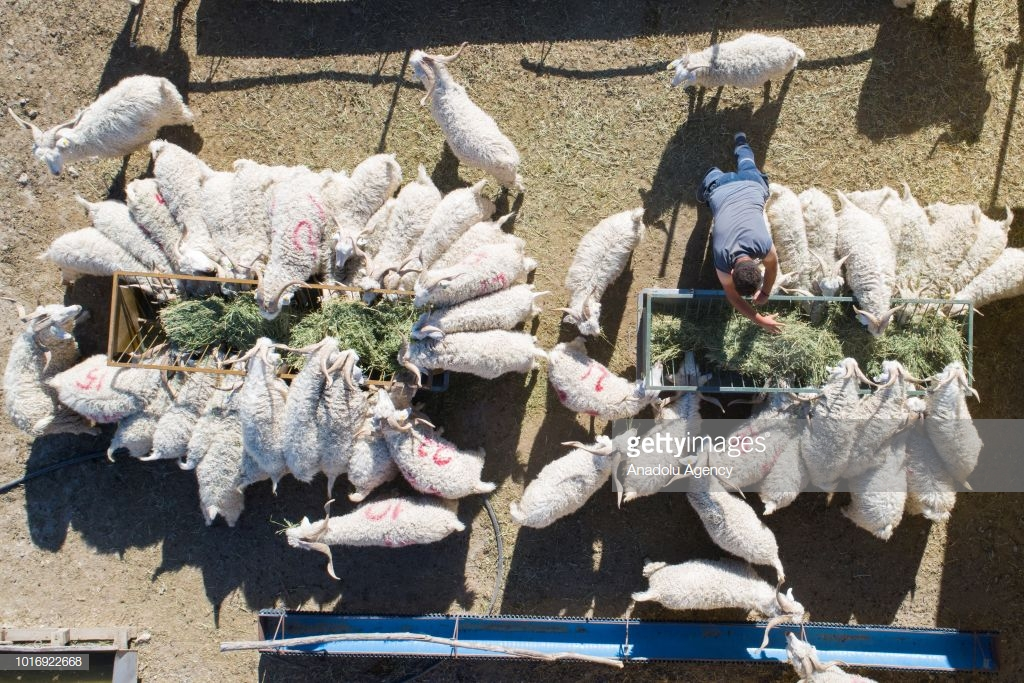sheep: (165, 349, 276, 536), (634, 547, 820, 643), (417, 49, 531, 204), (72, 54, 221, 167), (537, 196, 652, 336), (225, 334, 322, 484), (128, 142, 228, 285), (332, 163, 442, 289), (270, 507, 462, 579), (776, 348, 868, 495), (382, 397, 492, 517), (193, 144, 275, 301), (397, 321, 551, 401), (705, 377, 811, 487), (410, 201, 522, 300), (268, 164, 352, 296), (755, 179, 835, 316), (668, 457, 775, 559), (505, 424, 622, 516), (864, 364, 942, 501), (274, 332, 344, 474), (315, 360, 388, 491), (915, 363, 990, 489), (88, 341, 160, 471), (671, 29, 803, 95), (833, 213, 901, 337), (556, 347, 667, 422), (408, 299, 564, 350), (410, 258, 518, 330), (947, 219, 1008, 330), (888, 203, 947, 307), (801, 201, 852, 309)
